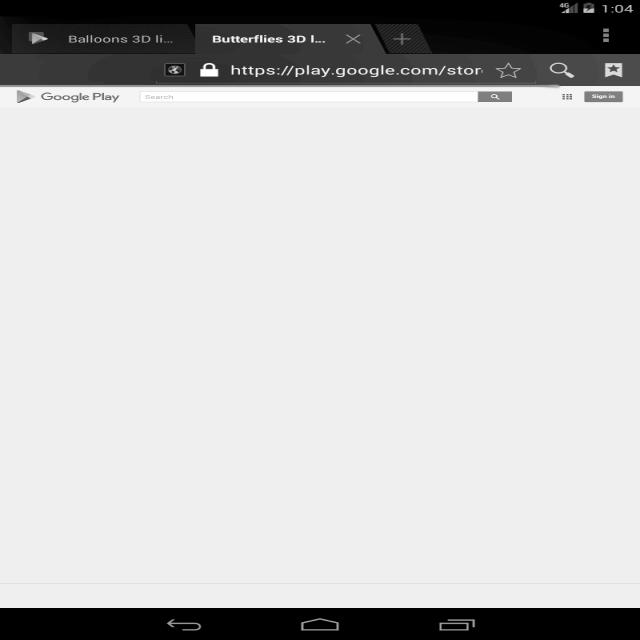Button: (578, 87, 626, 106)
EditText: (136, 87, 477, 107)
ImageButton: (586, 22, 620, 48), (542, 60, 582, 82), (596, 58, 630, 80), (490, 59, 524, 80), (195, 61, 222, 79)
ImageView: (6, 86, 39, 108), (22, 28, 58, 48)
TextView: (229, 60, 483, 81), (204, 26, 330, 49), (64, 30, 170, 48)
